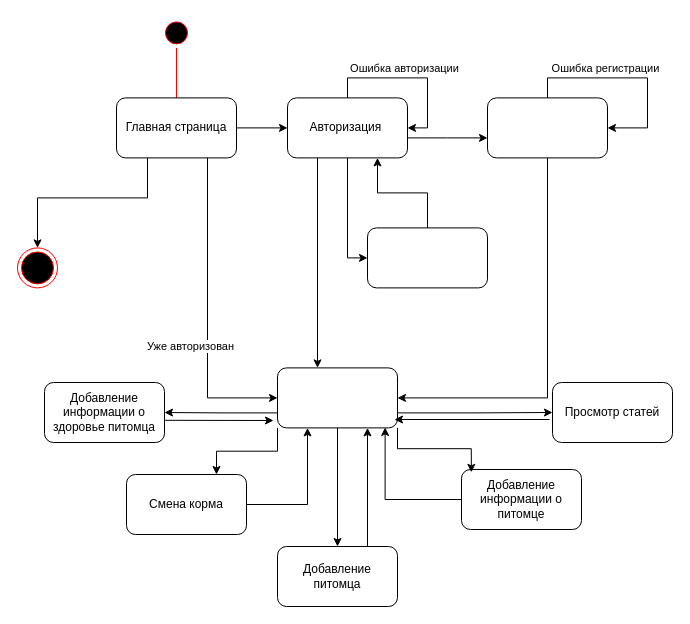
The diagram is 690 pixels wide and 624 high, and some of its shapes have lost their labels. Here are the shapes that lost their labels. From the top down, the centre of each, then its label:
At point (547, 127): "Регистрация".
At point (427, 257): "Восстановление пароля".
At point (337, 397): "Аккаунт пользователя".
